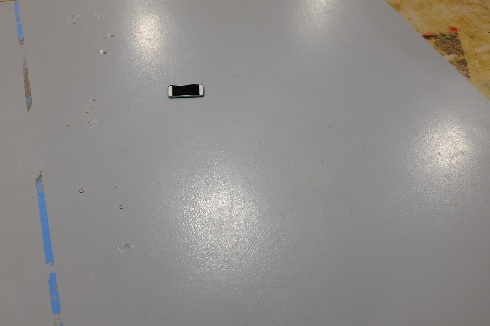phone: (162, 74, 211, 106)
